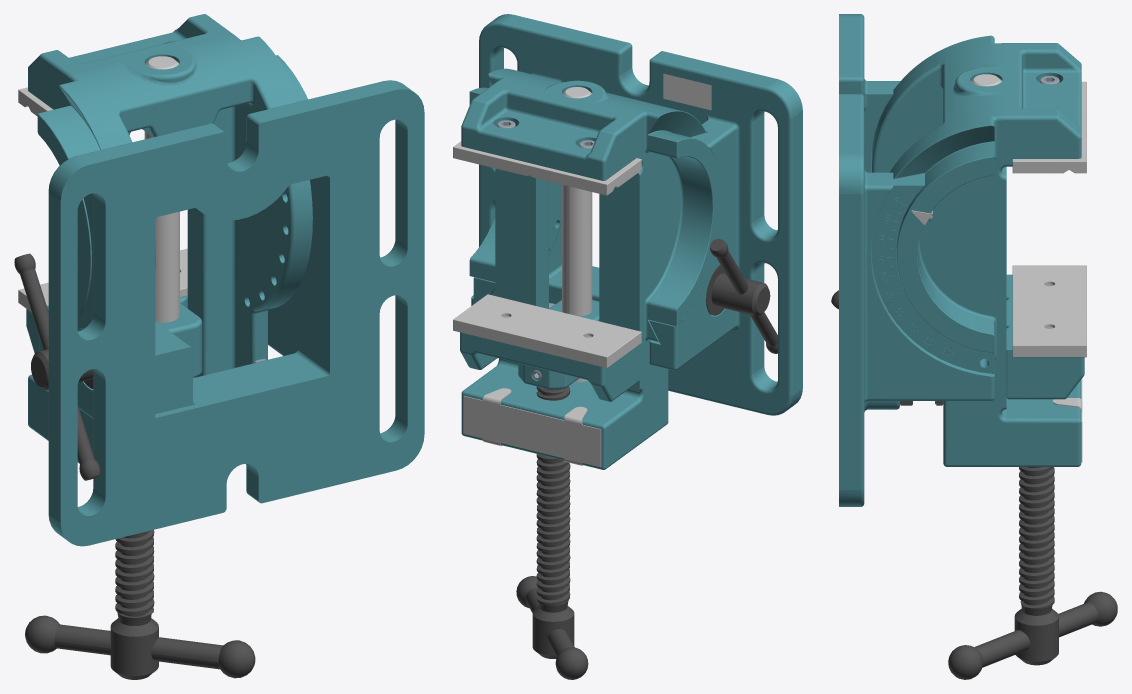
Rendered from planetary-gearbox.glb.
The picture shows the model from 3 angles, left to right: view 1: azimuth 30°, elevation 25°; view 2: azimuth 150°, elevation 25°; view 3: azimuth 270°, elevation 25°; orthographic projection. The views are drawn at different scales.
Visible parts, largest first — view 1: BASE, JAW, STATIC, SPINDLE, HANDLE, SPINDLE, SLIDER SHAFT, HANDLE, LOCKING SCREW, JAW, SLIDING, LOCKING SCREW, JAW PAD, SLIDING; view 2: JAW, STATIC, BASE, JAW PAD, SLIDING, SPINDLE, SHEET METAL PLATE, JAW, SLIDING, SLIDER SHAFT, JAW PAD, STATIC, HANDLE, SPINDLE, LOCKING SCREW, HANDLE, LOCKING SCREW, WARNING LABEL - ANSI; view 3: JAW, STATIC, BASE, SPINDLE, JAW PAD, SLIDING, HANDLE, SPINDLE, JAW, SLIDING, JAW PAD, STATIC.
Boxes of the visible parts, x1=… form: BASE: x1=39, y1=80, x2=424, y2=546; JAW, STATIC: x1=28, y1=14, x2=312, y2=463; SPINDLE: x1=110, y1=530, x2=158, y2=679; HANDLE, SPINDLE: x1=25, y1=615, x2=255, y2=678; SLIDER SHAFT: x1=144, y1=56, x2=179, y2=322; HANDLE, LOCKING SCREW: x1=14, y1=253, x2=100, y2=480; JAW, SLIDING: x1=26, y1=295, x2=202, y2=376; LOCKING SCREW: x1=31, y1=349, x2=93, y2=389; JAW PAD, SLIDING: x1=18, y1=248, x2=187, y2=312; JAW, STATIC: x1=461, y1=68, x2=722, y2=469; BASE: x1=471, y1=14, x2=802, y2=415; JAW PAD, SLIDING: x1=453, y1=294, x2=641, y2=367; SPINDLE: x1=532, y1=386, x2=574, y2=658; SHEET METAL PLATE: x1=463, y1=388, x2=601, y2=467; JAW, SLIDING: x1=460, y1=299, x2=639, y2=401; SLIDER SHAFT: x1=562, y1=87, x2=592, y2=382; JAW PAD, STATIC: x1=453, y1=141, x2=641, y2=195; HANDLE, SPINDLE: x1=516, y1=576, x2=588, y2=679; LOCKING SCREW: x1=711, y1=273, x2=770, y2=316; HANDLE, LOCKING SCREW: x1=710, y1=239, x2=777, y2=353; WARNING LABEL - ANSI: x1=663, y1=73, x2=711, y2=110; JAW, STATIC: x1=872, y1=35, x2=1081, y2=466; BASE: x1=839, y1=14, x2=994, y2=506; SPINDLE: x1=1014, y1=467, x2=1058, y2=665; JAW PAD, SLIDING: x1=1012, y1=265, x2=1086, y2=357; HANDLE, SPINDLE: x1=948, y1=591, x2=1117, y2=679; JAW, SLIDING: x1=1006, y1=274, x2=1084, y2=399; JAW PAD, STATIC: x1=1012, y1=81, x2=1086, y2=173.
Size of the model in its own units: 165 by 274 by 123.
